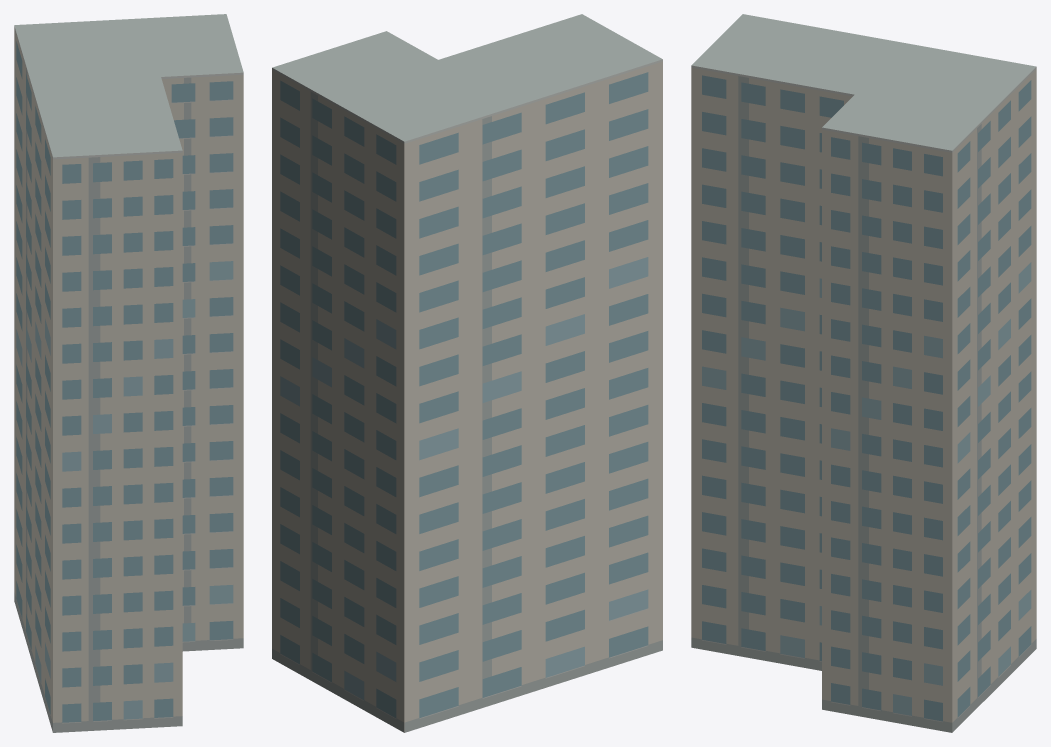
The model's file is residential-ce0a337d-5229-4f7a-86a8-20538b3dbaa4.glb.
3 renders of one model, left to right at view 1: azimuth 30°, elevation 25°; view 2: azimuth 150°, elevation 25°; view 3: azimuth 270°, elevation 25°, orthographic. The views are drawn at different scales.
Parts seen in each view (by area): view 1: residential-ce0a337d-5229-4f7a-86a8-20538b3dbaa4.tmp; view 2: residential-ce0a337d-5229-4f7a-86a8-20538b3dbaa4.tmp; view 3: residential-ce0a337d-5229-4f7a-86a8-20538b3dbaa4.tmp.
Boxes of the visible parts, x1,y1,x2,y2 form: residential-ce0a337d-5229-4f7a-86a8-20538b3dbaa4.tmp: [14, 14, 243, 732]; residential-ce0a337d-5229-4f7a-86a8-20538b3dbaa4.tmp: [272, 14, 662, 732]; residential-ce0a337d-5229-4f7a-86a8-20538b3dbaa4.tmp: [691, 14, 1036, 732].
Bounding box in the file's own units: 32.75 × 65 × 34.94.
